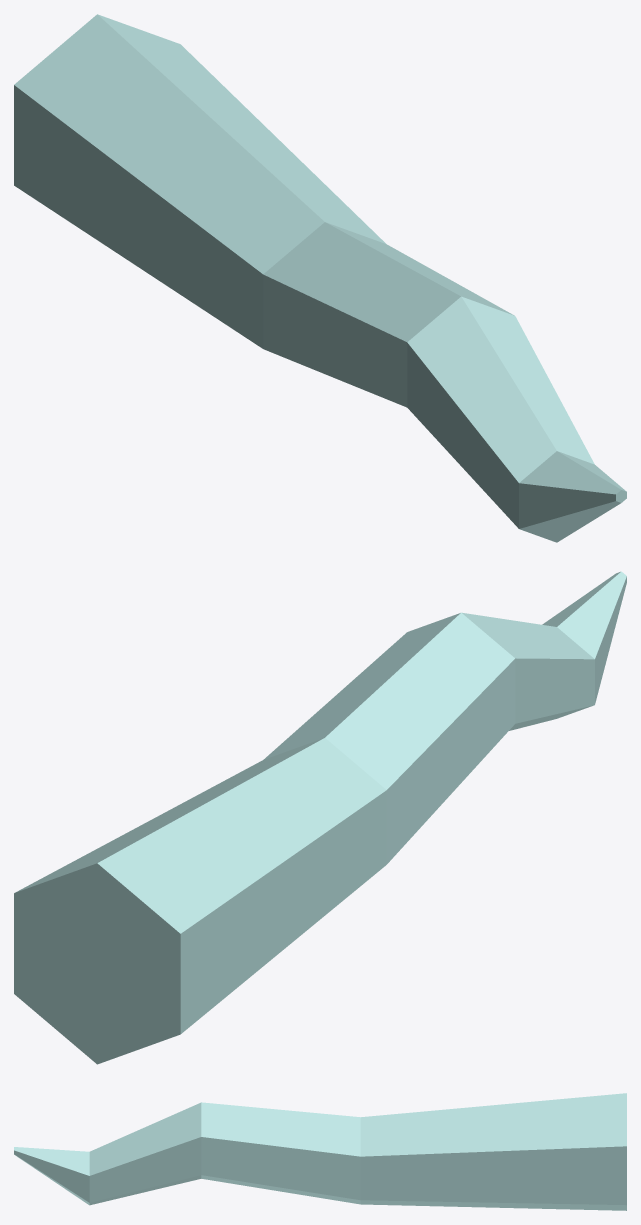
Rendered from Ice4.fbx.
3 renders of one model, top to bottom at view 1: azimuth 30°, elevation 25°; view 2: azimuth 150°, elevation 25°; view 3: azimuth 270°, elevation 25°, orthographic. The views are drawn at different scales.
Parts seen in each view (by area): view 1: Peak; view 2: Peak; view 3: Peak.
Part boxes in pixels (x1,y1,x2,y2): Peak: [14, 14, 626, 542]; Peak: [14, 571, 626, 1064]; Peak: [14, 1093, 626, 1210].
Size of the model in its own units: 131 by 152 by 716.
